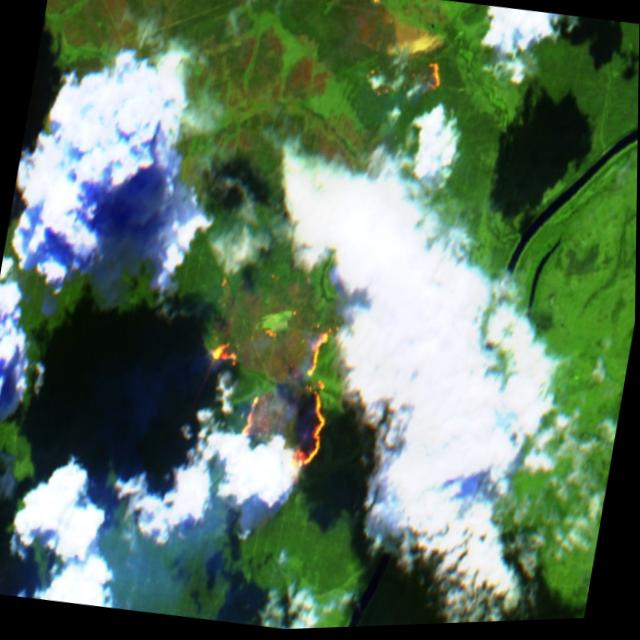fire: (174, 275, 364, 513), (361, 42, 450, 108)
